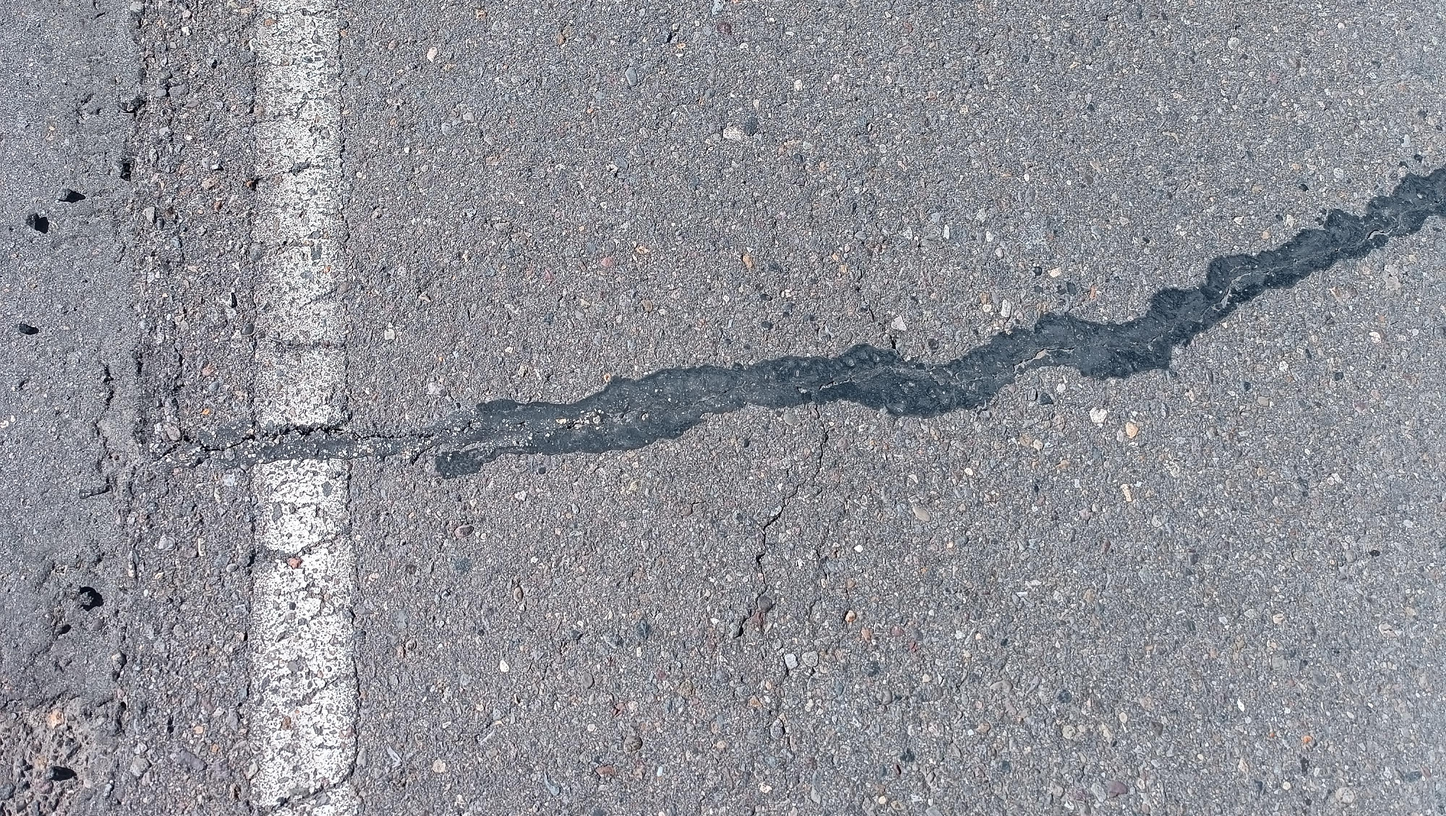GRIETA: (734, 479, 809, 639), (184, 420, 508, 455)
PARCHE: (245, 167, 1446, 477)
